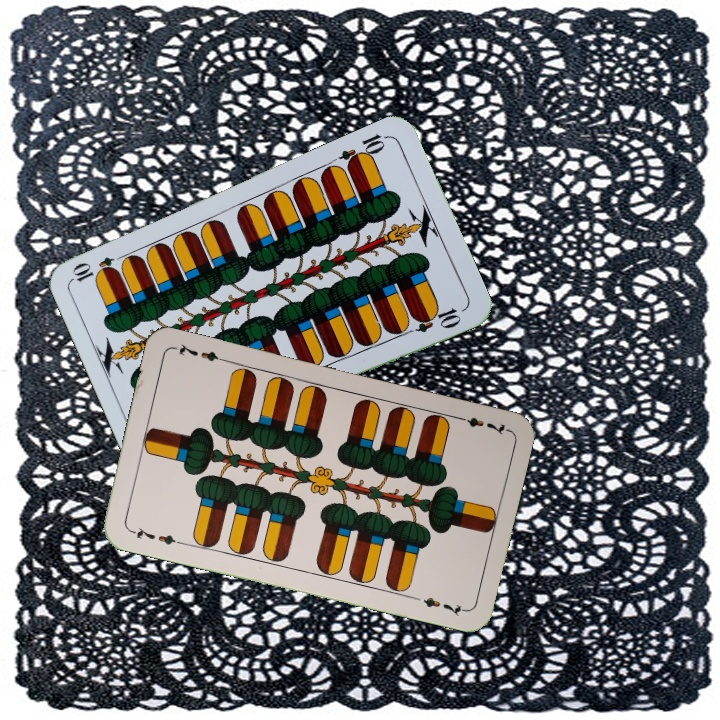E10: (335, 129, 391, 171)
E7: (451, 411, 509, 438), (126, 524, 185, 548)
